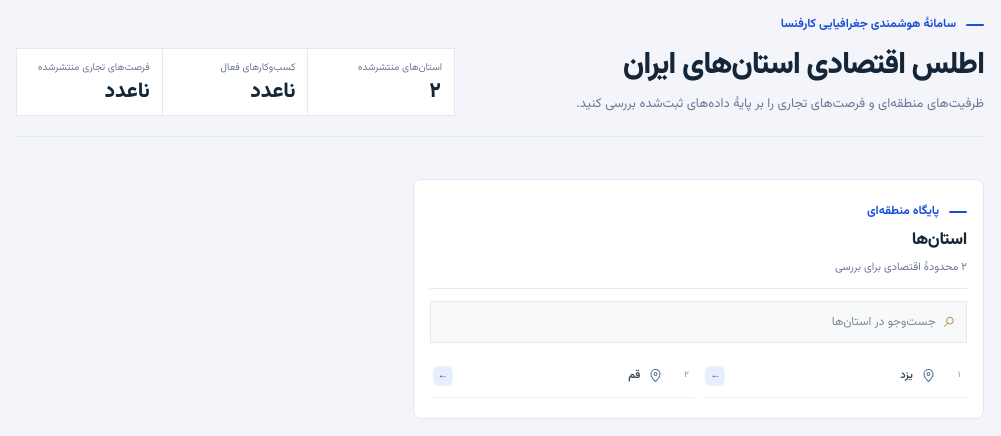
Test case: province pages › normalizes Persian province searches and preserves province navigation
Expected: the text "یزد" is shown, [900,367,913,384]
Type "يَزْد" into the search field named "جست‌وجوی استان" at (688, 322), box [441,302,936,342]
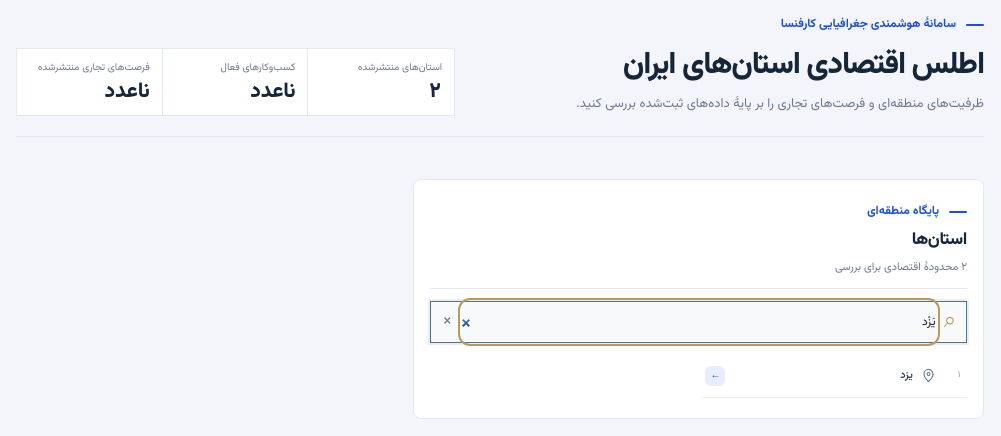
Expected: the text "یزد" is shown, [900,367,913,384]
Expected: the button "قم" is gone
